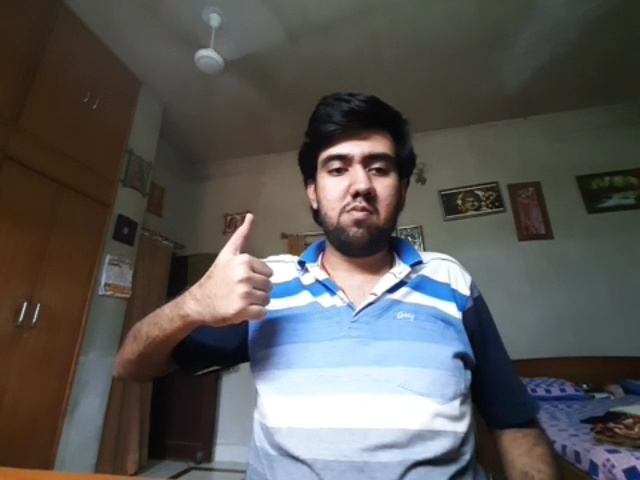Ok: (203, 213, 274, 321)
